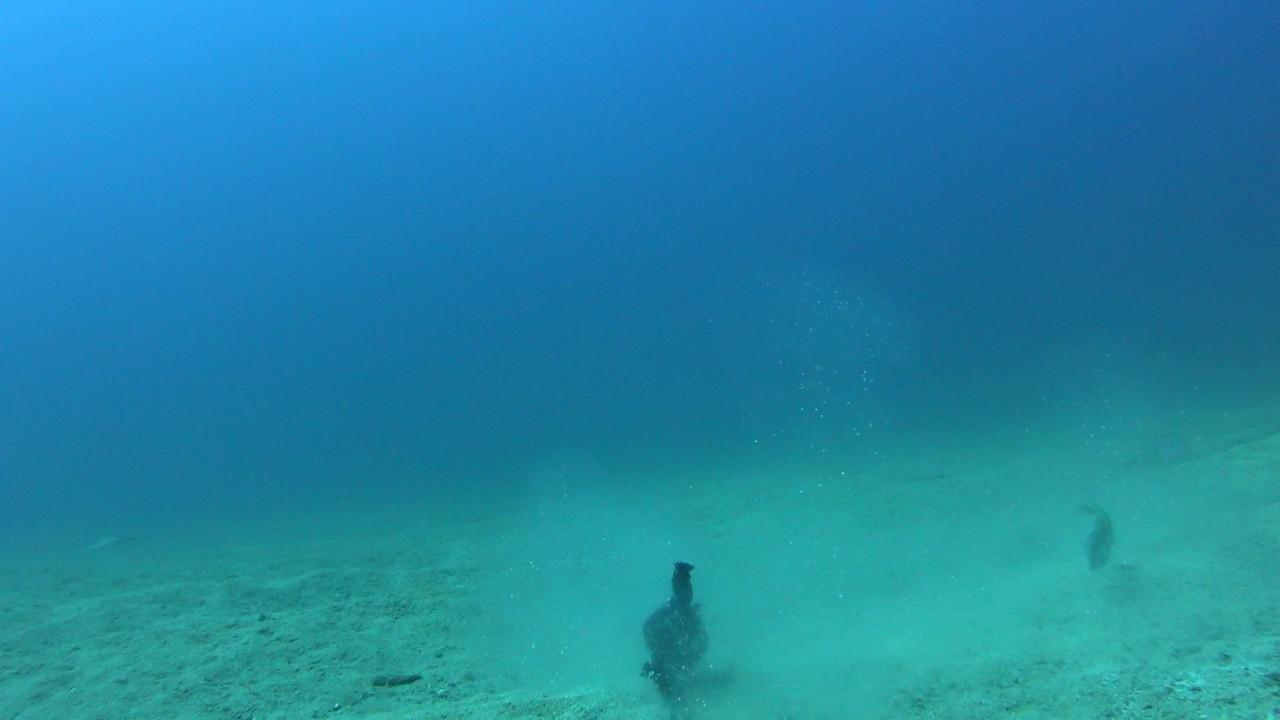myliobatis: (76, 513, 159, 566)
raor: (1076, 496, 1125, 574)
